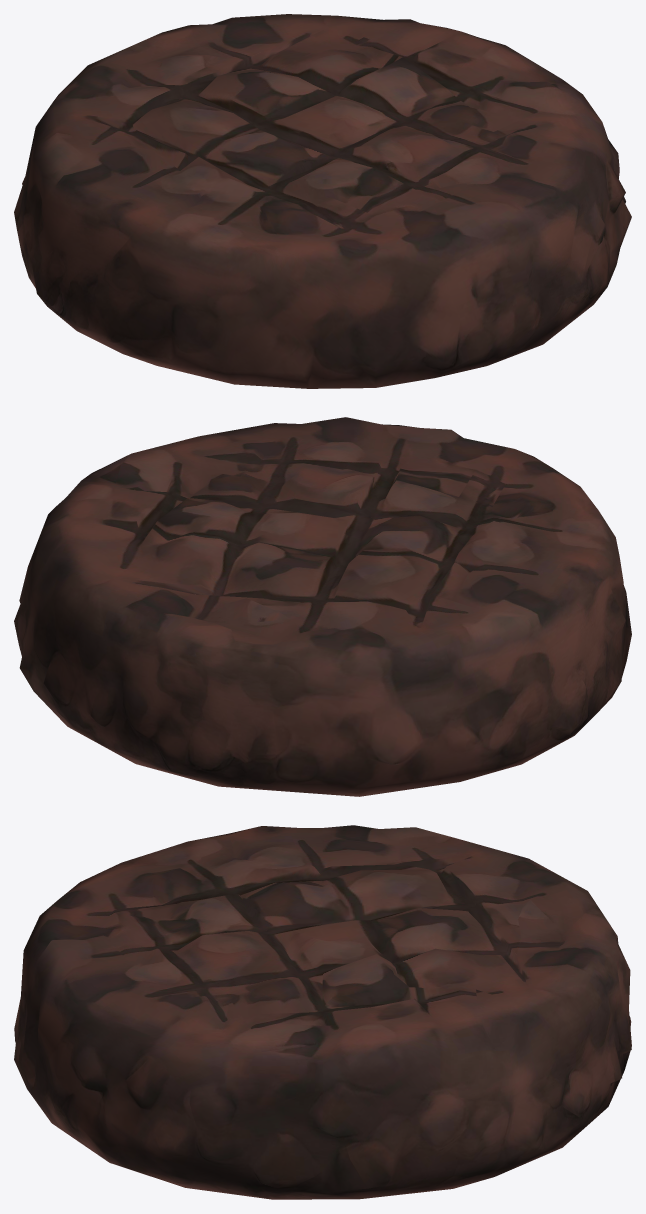
File: MeatPattyBurned.fbx
3 renders of one model, top to bottom at view 1: azimuth 30°, elevation 25°; view 2: azimuth 150°, elevation 25°; view 3: azimuth 270°, elevation 25°, orthographic.
Parts seen in each view (by area): view 1: tripo_node_74c8c797; view 2: tripo_node_74c8c797; view 3: tripo_node_74c8c797.
Part boxes in pixels (left/top/right/bottom): tripo_node_74c8c797: left=14, top=14, right=631, bottom=388; tripo_node_74c8c797: left=14, top=417, right=631, bottom=796; tripo_node_74c8c797: left=14, top=825, right=631, bottom=1199.
Bounding box in the file's own units: 1 × 0.2999 × 0.9996.
1 material, 1 textured.
